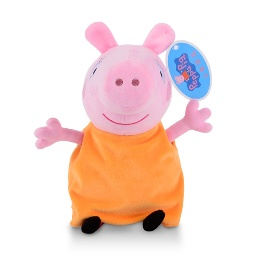Peppa: (33, 18, 217, 233)
